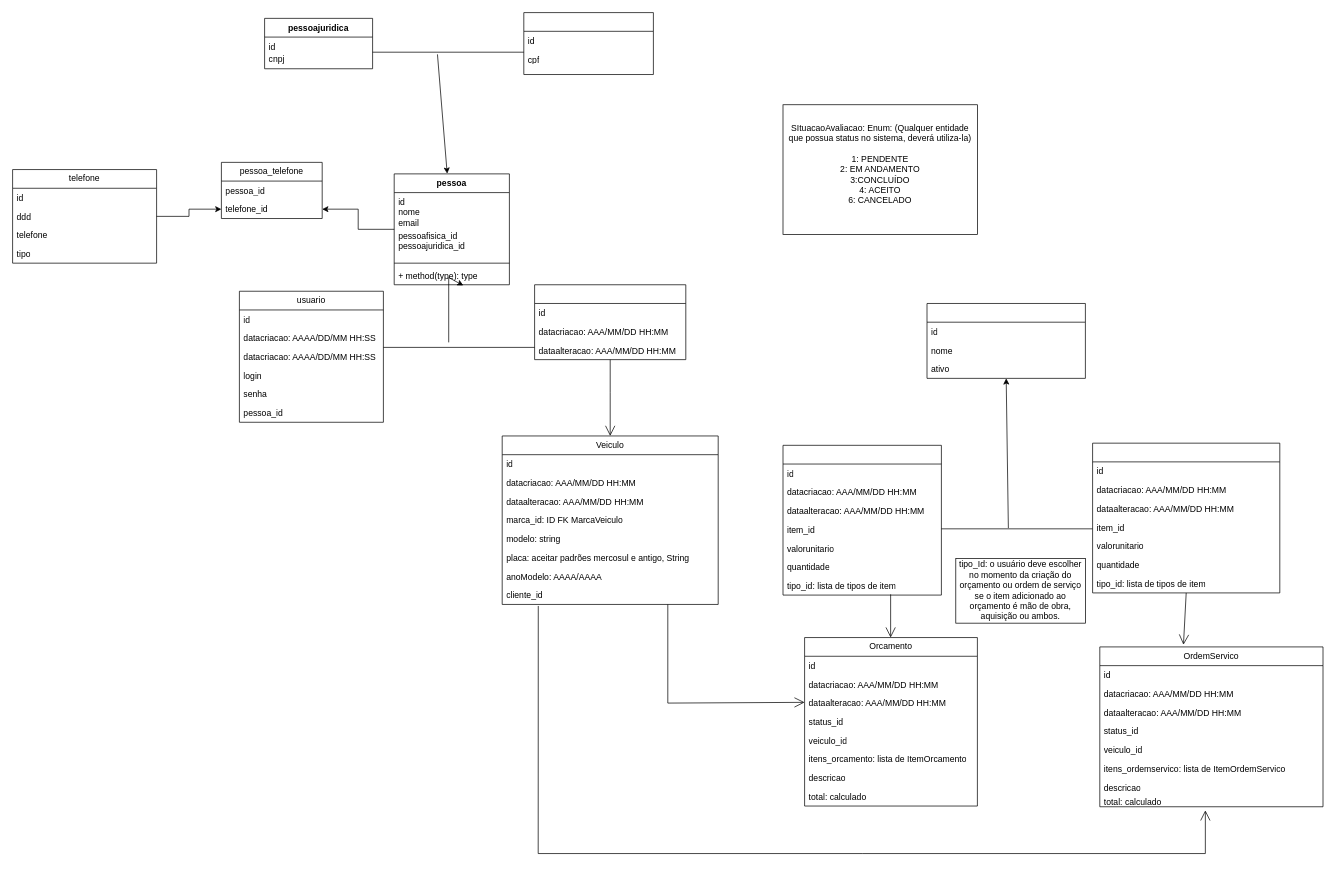
The diagram is 1336 pixels wide and 876 high, and some of its shapes have lost their labels. The box of each missing label's shape, as (x1, y1, x2, y2) in pixels:
Cliente: (534, 284, 686, 360)
I temOrdemServico: (1092, 442, 1280, 593)
item: (926, 303, 1085, 378)
ItemOrcamento: (782, 445, 941, 595)
pessoafisica: (523, 12, 653, 75)
